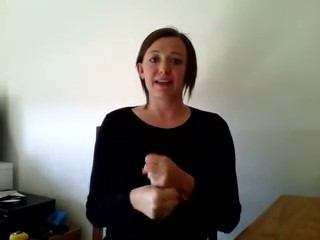G: (135, 147, 187, 222)
